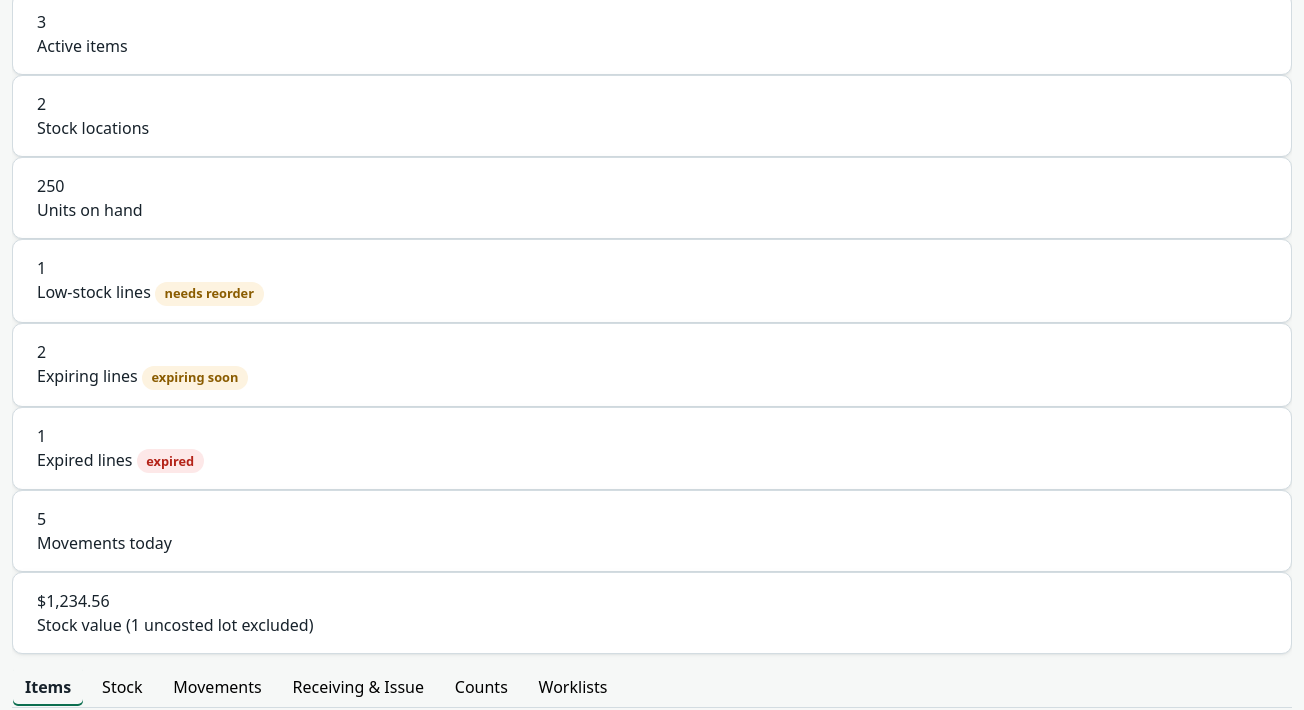
Test: InventoryPage › surfaces a 409 from issue inline next to the form
Expected: the text "$1,234.56" is shown, 37,590 -> 110,612
Click the tab "Receiving & Issue" at (358, 687), box 280,667 -> 437,707
(page scrolled)
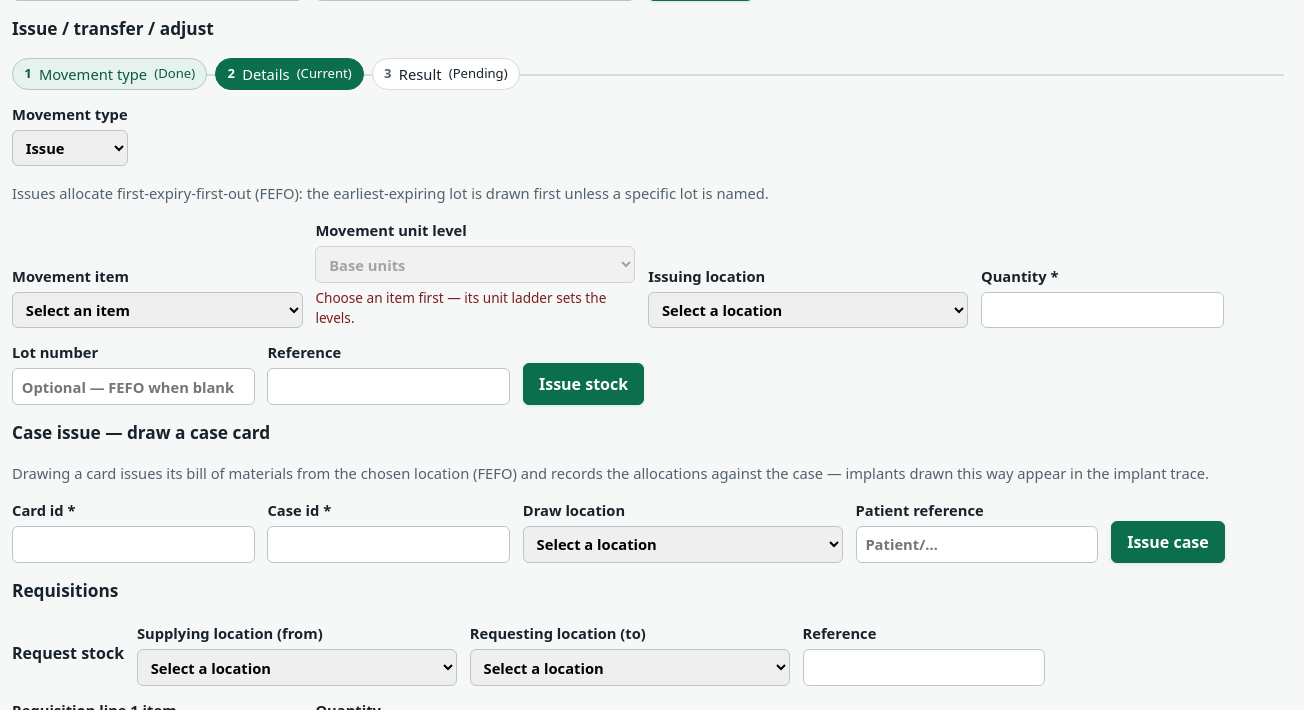
Select "SUT-001 — Suture pack (synthetic)" in the dropdown labelled "Movement item" at (157, 310), box 12,292 -> 303,328
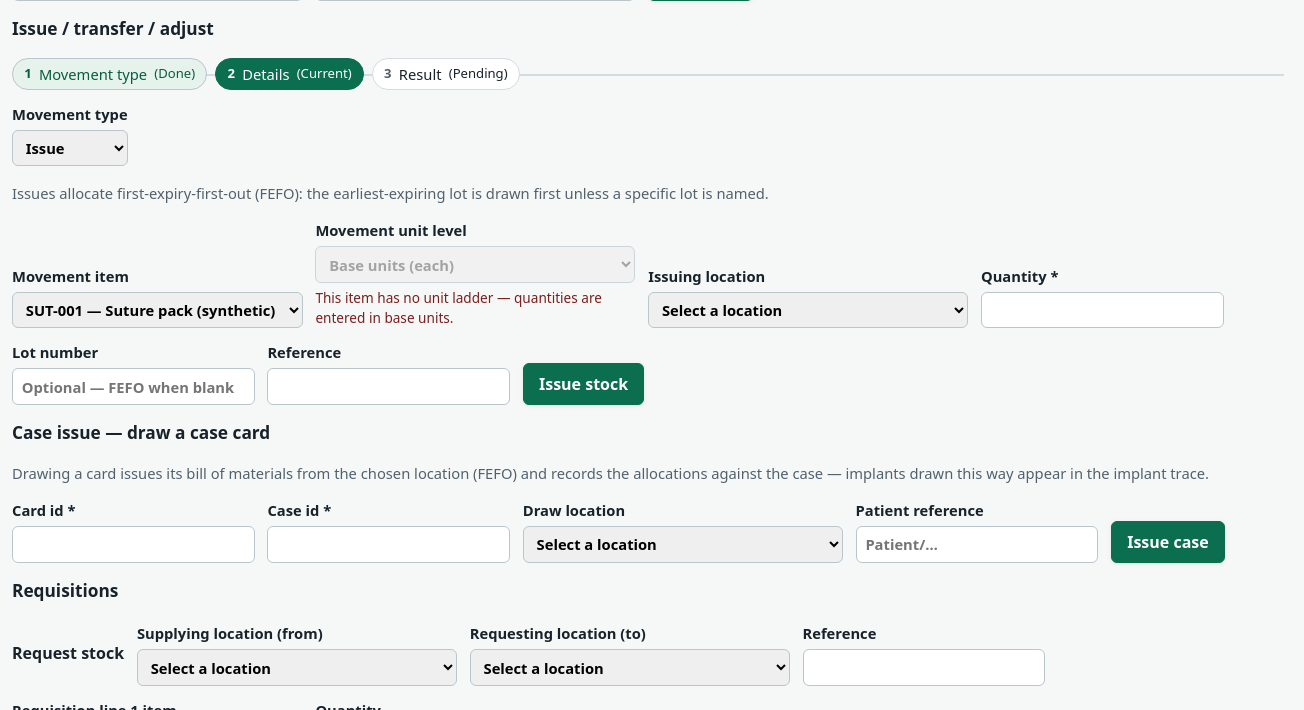
Select "Main Hospital (LOC-MAIN)" in the dropdown labelled "Issuing location" at (808, 310), box 648,292 -> 968,328
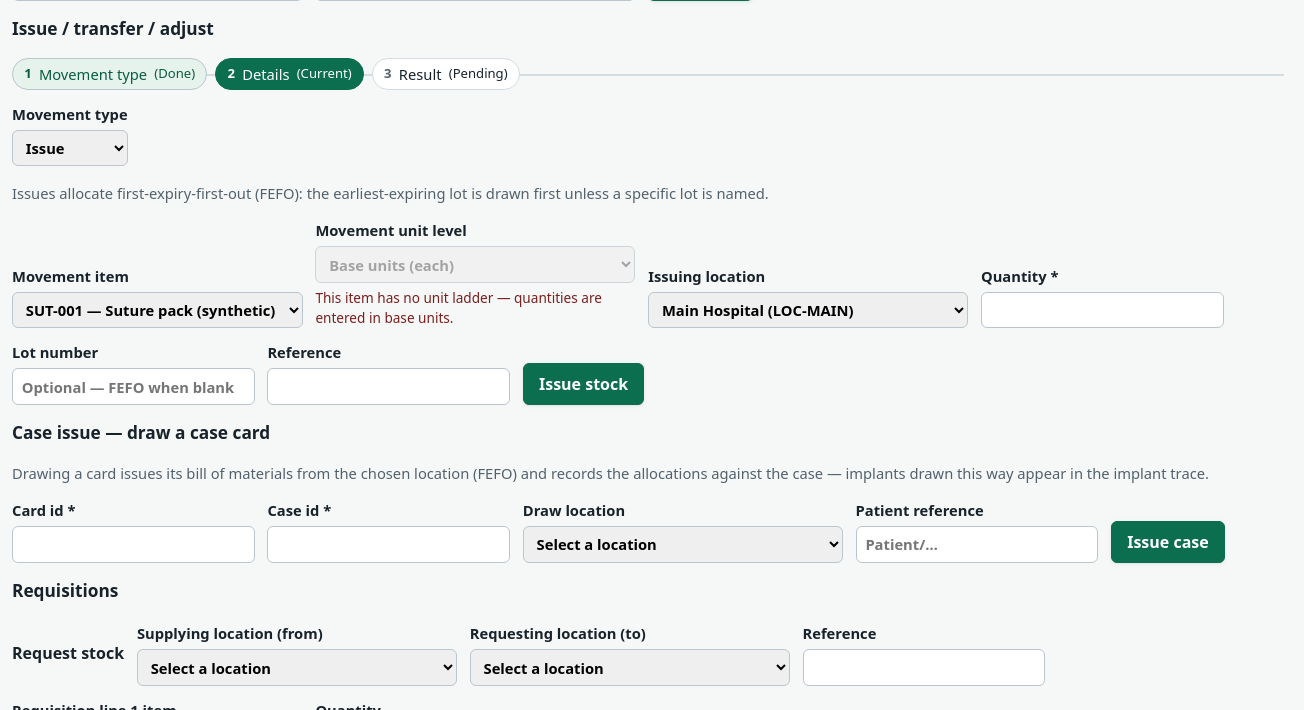
Type "5" into the number field named "Issue quantity" at (1102, 310), box 981,292 -> 1224,328
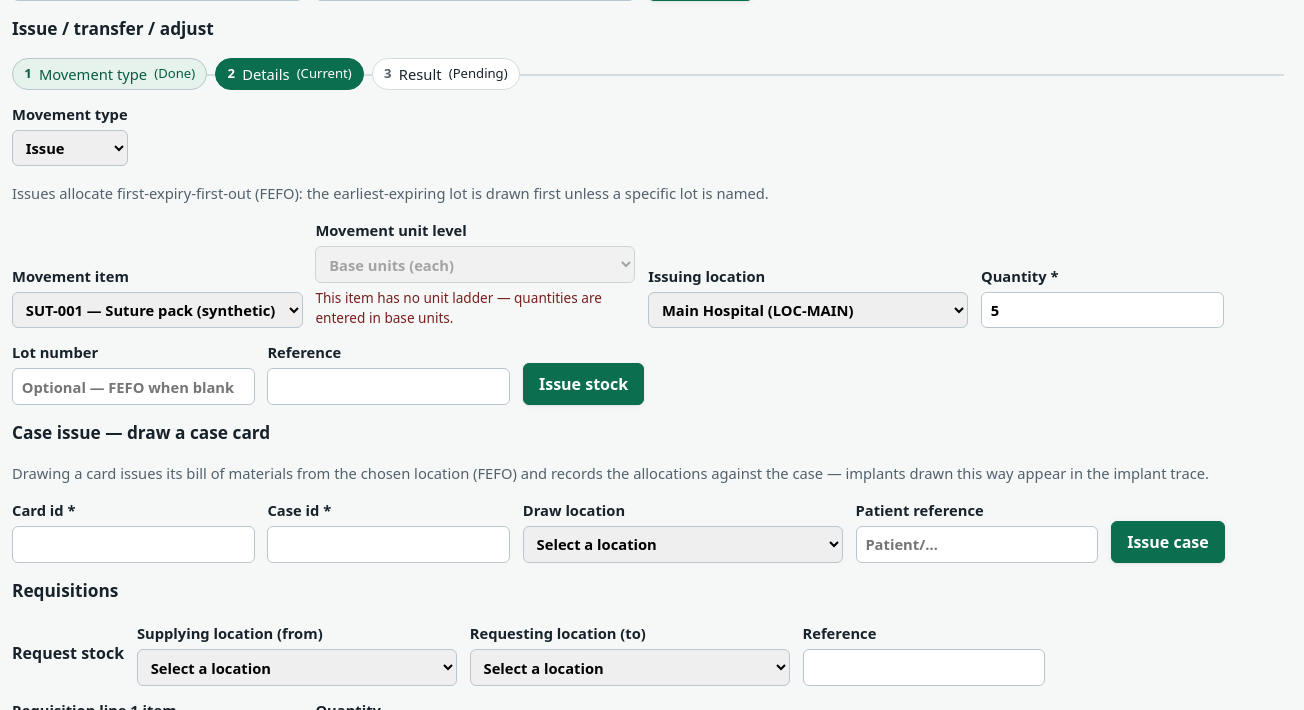
Click the button "Issue stock" at (584, 384), box 523,363 -> 644,405
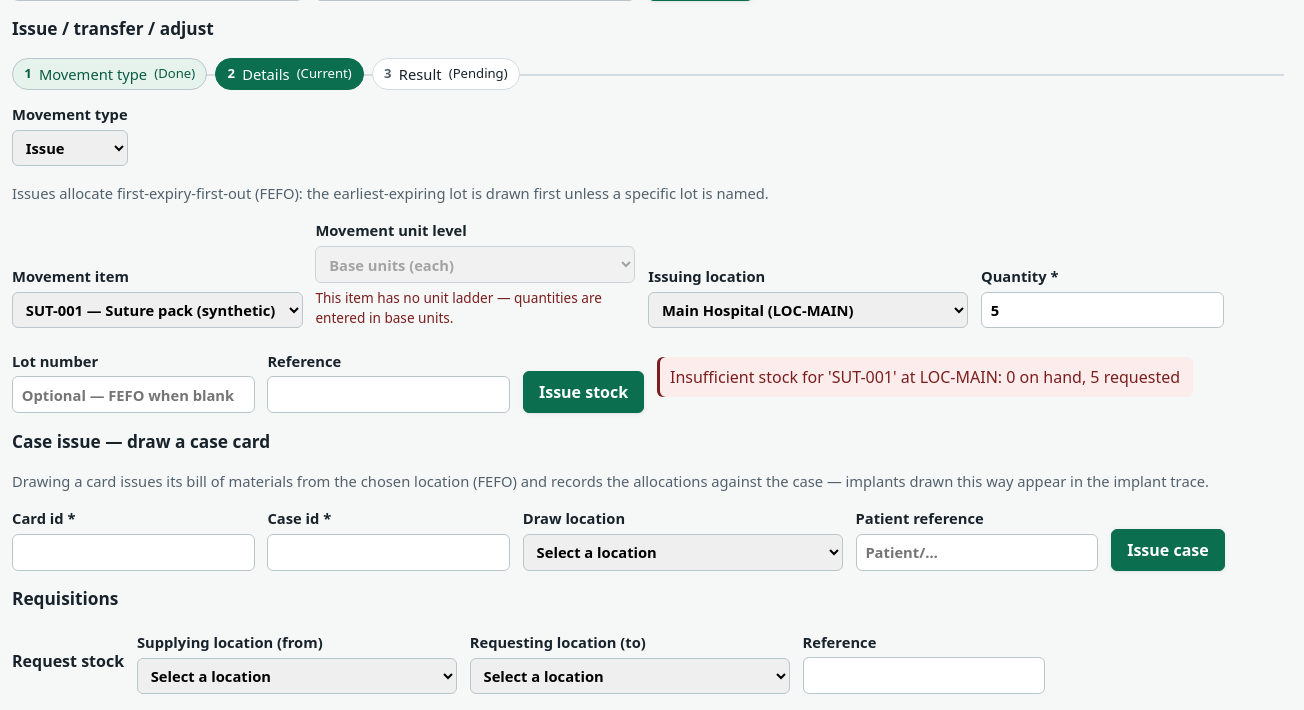
Expected: the text "Insufficient stock for 'SUT-001' at LOC-MAIN: 0 on hand, 5 requested" is shown, 657,357 -> 1193,397
